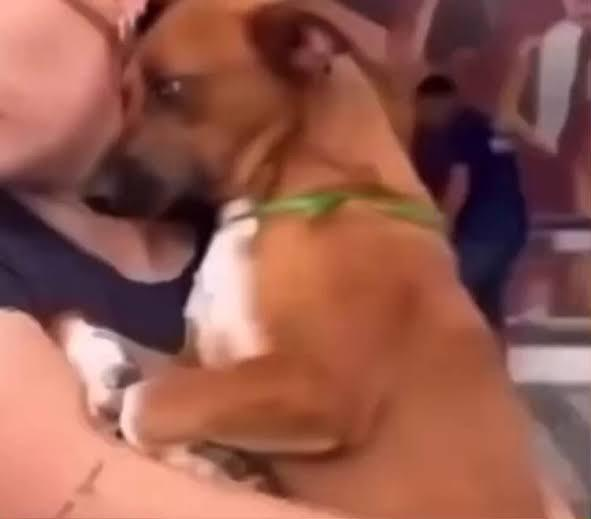adult_dog: (75, 1, 564, 519)
